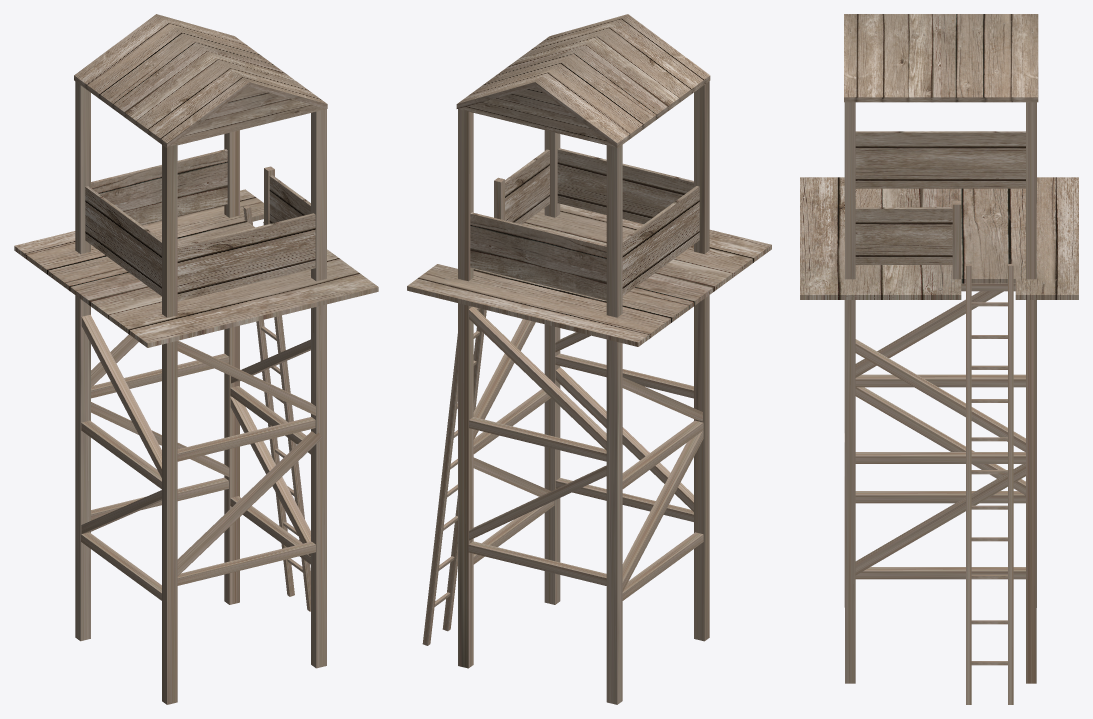
File: watch_tower.fbm.fbx
3 renders of one model, left to right at view 1: azimuth 30°, elevation 25°; view 2: azimuth 150°, elevation 25°; view 3: azimuth 270°, elevation 25°, orthographic. The views are drawn at different scales.
Visible parts, largest first — view 1: polySurface156; view 2: polySurface156; view 3: polySurface156.
Part boxes in pixels (x1=…): polySurface156: x1=14, y1=14, x2=378, y2=704; polySurface156: x1=407, y1=14, x2=771, y2=704; polySurface156: x1=800, y1=14, x2=1078, y2=704.
Bounding box in the file's own units: 12.93 × 30.18 × 12.1.
